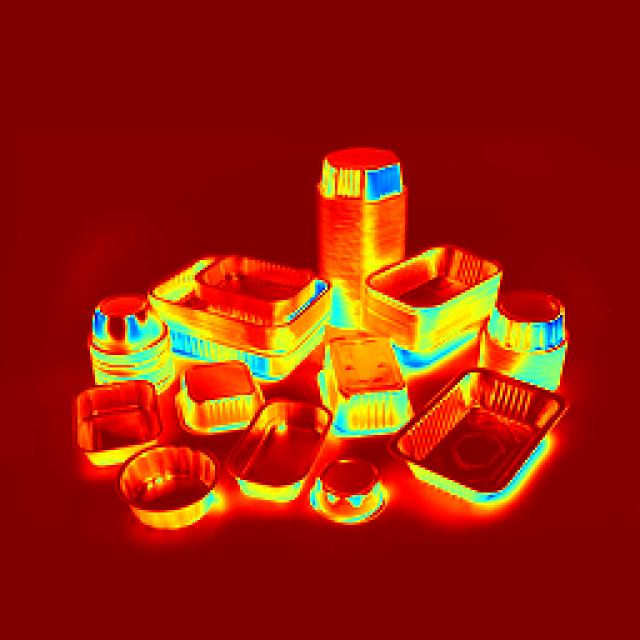Aluminium Food Cans: (171, 245, 300, 357), (423, 366, 534, 492), (369, 248, 492, 343), (330, 143, 405, 253), (315, 338, 402, 422), (69, 368, 152, 452), (251, 407, 318, 503), (130, 447, 224, 515), (168, 360, 248, 438), (101, 304, 177, 382), (318, 450, 382, 532), (493, 296, 560, 374)
